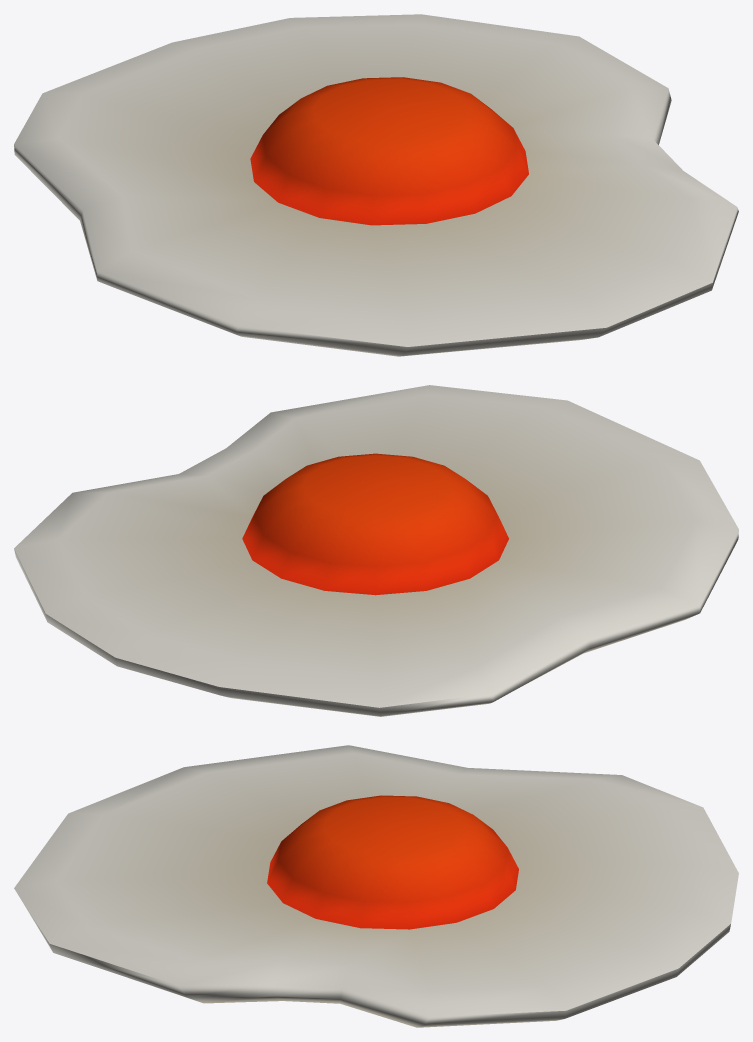
Rendered from FriedEgg_Medium.fbx.
3 views of the same model, one above another, from view 1: azimuth 30°, elevation 25°; view 2: azimuth 150°, elevation 25°; view 3: azimuth 270°, elevation 25° (orthographic). The views are drawn at different scales.
Parts seen in each view (by area): view 1: FriedEgg_Medium; view 2: FriedEgg_Medium; view 3: FriedEgg_Medium.
Boxes of the visible parts, <box> form: FriedEgg_Medium: <box>14,14,738,356</box>; FriedEgg_Medium: <box>14,385,738,716</box>; FriedEgg_Medium: <box>14,745,738,1027</box>.
Bounding box in the file's own units: 38.31 × 5.36 × 43.19.
